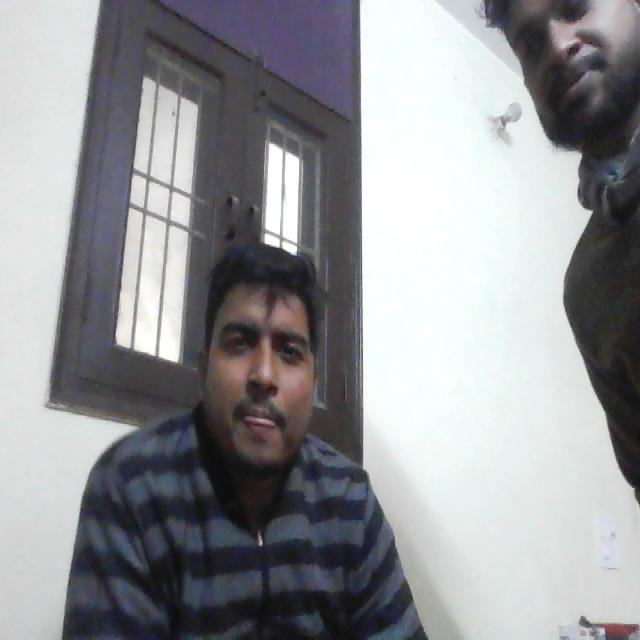real: (189, 209, 336, 488)
